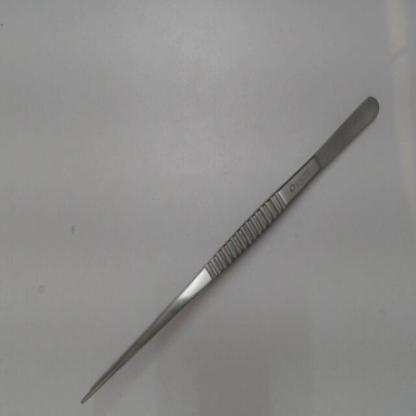DeBakey Dissector: (66, 76, 394, 413)
